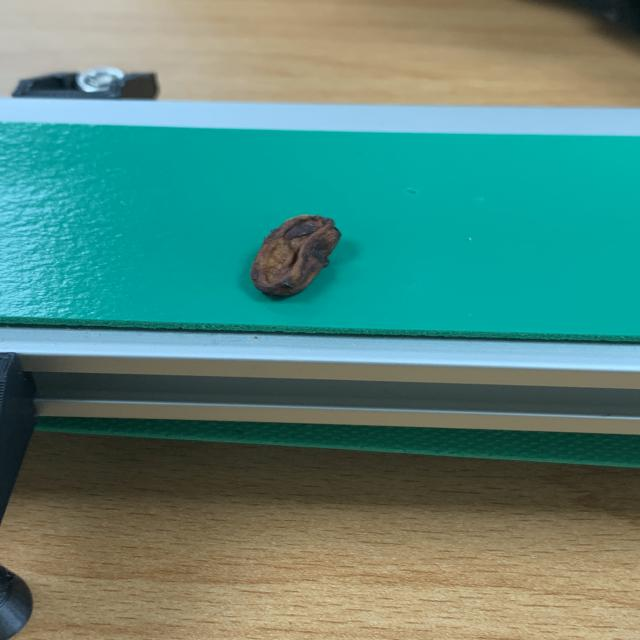Flat_cocoabeans: (168, 182, 434, 340)
